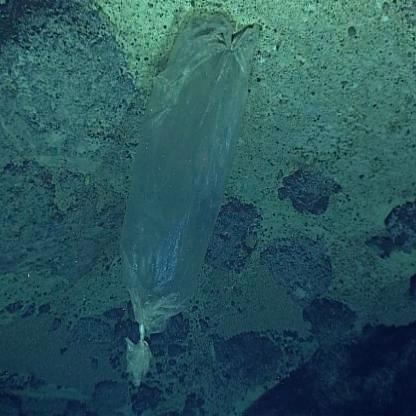pbag: (117, 13, 261, 392)
